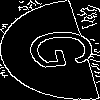G: (24, 25, 100, 72)
